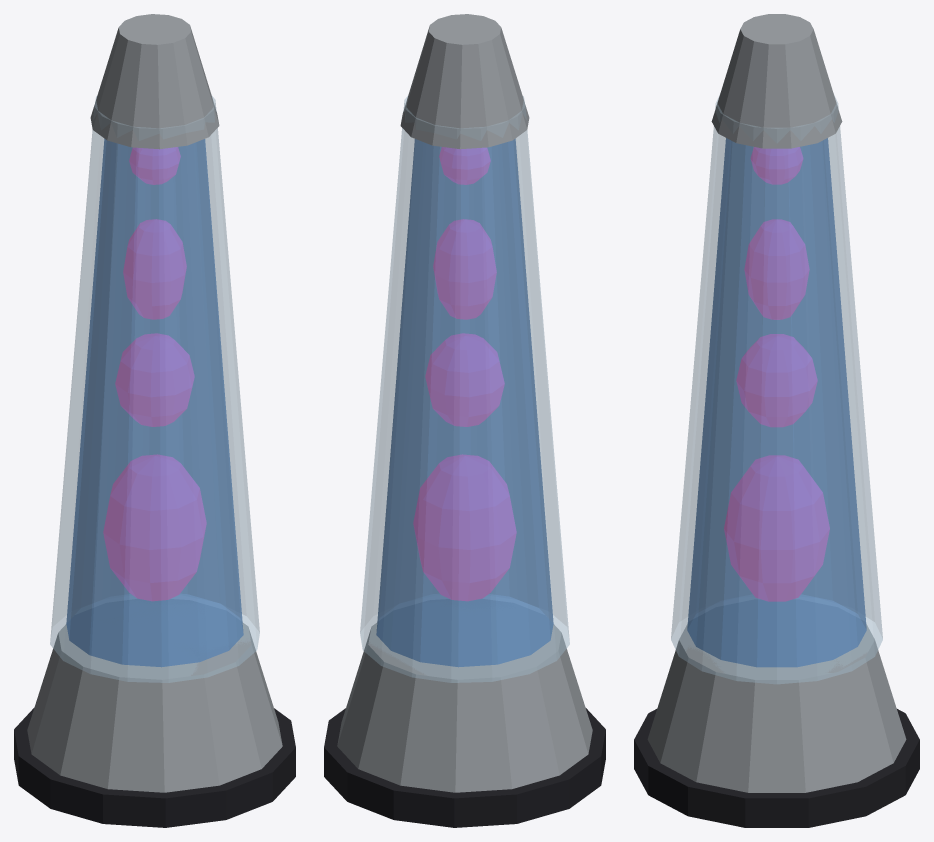
File: lava_lamp.glb
3 renders of one model, left to right at view 1: azimuth 30°, elevation 25°; view 2: azimuth 150°, elevation 25°; view 3: azimuth 270°, elevation 25°, orthographic.
Visible parts, largest first — view 1: lava_lamp; view 2: lava_lamp; view 3: lava_lamp.
Boxes of the visible parts, x1,y1,x2,y2 form: lava_lamp: [14, 14, 295, 827]; lava_lamp: [324, 14, 605, 827]; lava_lamp: [634, 14, 919, 827].
Size of the model in its own units: 0.1365 by 0.4 by 0.14.
